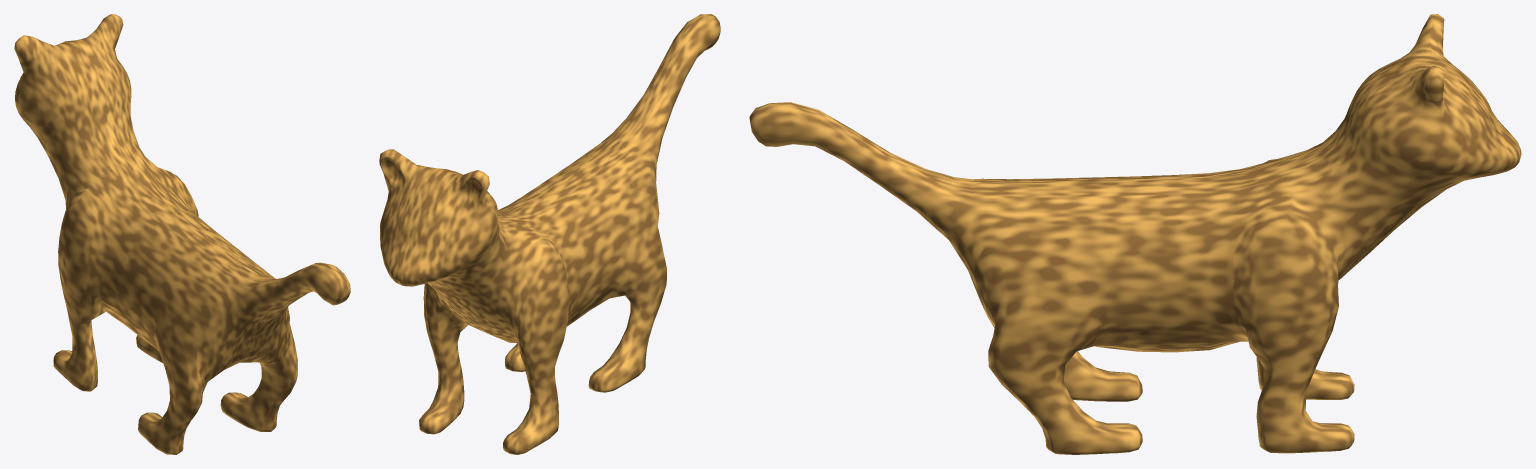
File: cat.obj
3 views of the same model, side by side, from view 1: azimuth 30°, elevation 25°; view 2: azimuth 150°, elevation 25°; view 3: azimuth 270°, elevation 25° (orthographic). The views are drawn at different scales.
Parts seen in each view (by area): view 1: Cylinder_Cylinder.001; view 2: Cylinder_Cylinder.001; view 3: Cylinder_Cylinder.001.
Part boxes in pixels (<box>): Cylinder_Cylinder.001: <box>14,14,350,454</box>; Cylinder_Cylinder.001: <box>379,14,720,454</box>; Cylinder_Cylinder.001: <box>749,14,1521,454</box>.
Bounding box in the file's own units: 0.4601 × 1.09 × 2.01.
Materials: 1 (1 with a texture image).
